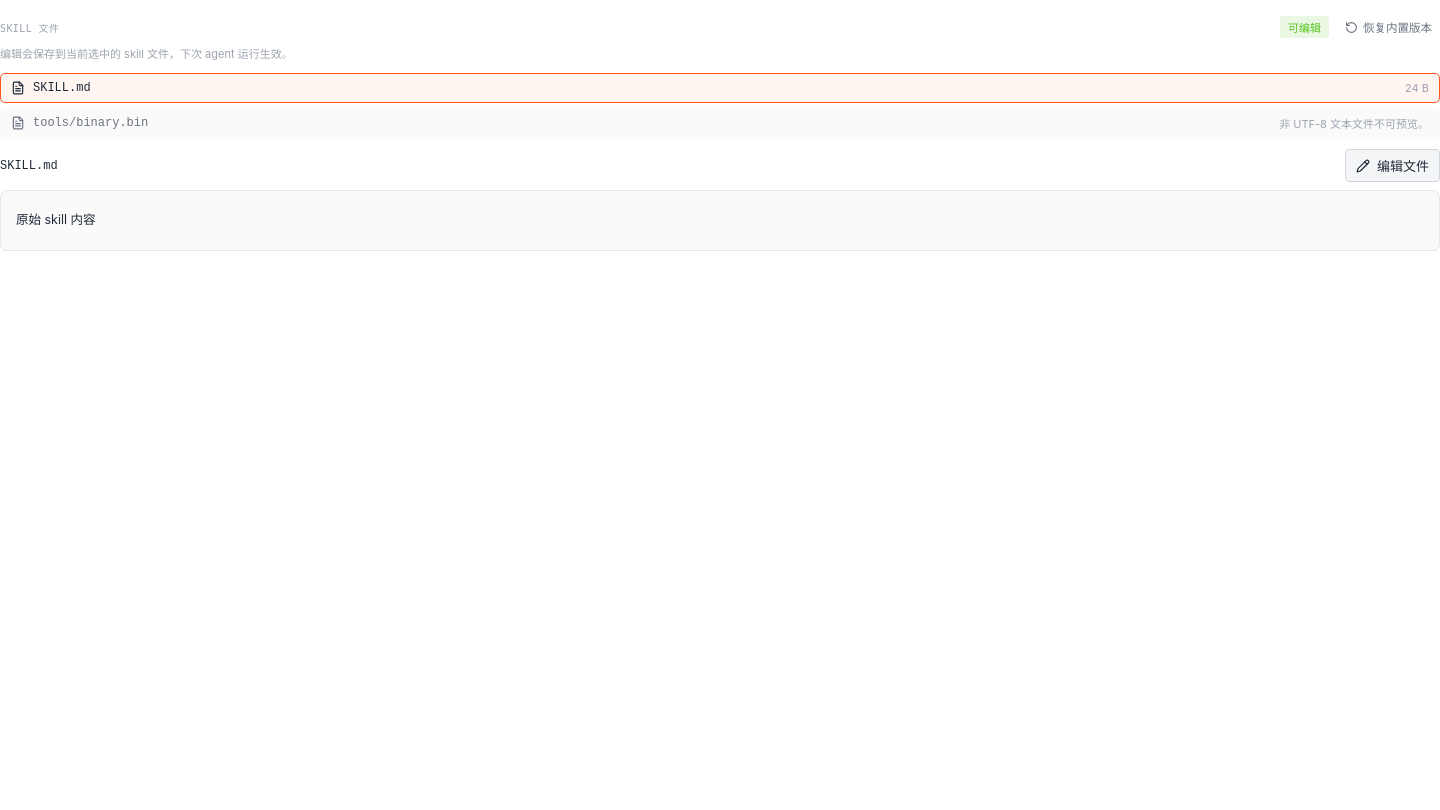
Test: SkillFilePreview › restores factory skills via dry-run preview and inline confirmation
Check: the text "原始 skill 内容" is shown, box left=16, top=212, right=96, bottom=227
Click the button "恢复内置版本": point(1388, 27) left=1337, top=14, right=1439, bottom=40
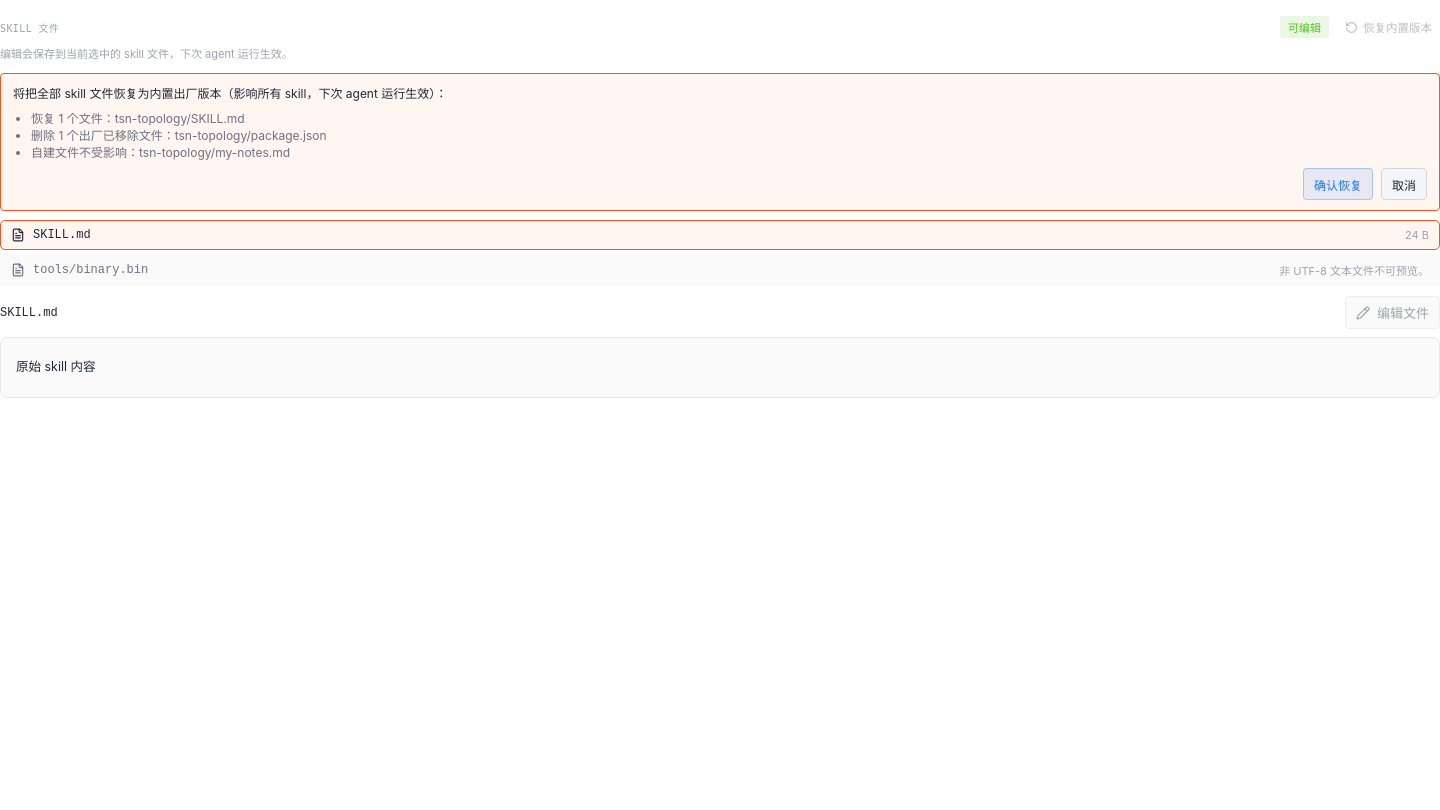
Check: the dialog named "恢复内置版本确认" shows "恢复 1 个文件：tsn-topology/SKILL.md", box left=31, top=111, right=245, bottom=126
Check: the dialog named "恢复内置版本确认" shows "删除 1 个出厂已移除文件：tsn-topology/package.json", box left=0, top=73, right=1439, bottom=211
Check: the dialog named "恢复内置版本确认" shows "自建文件不受影响：tsn-topology/my-notes.md", box left=0, top=73, right=1439, bottom=211
Click the button "确认恢复": point(1338, 184) left=1303, top=168, right=1373, bottom=200
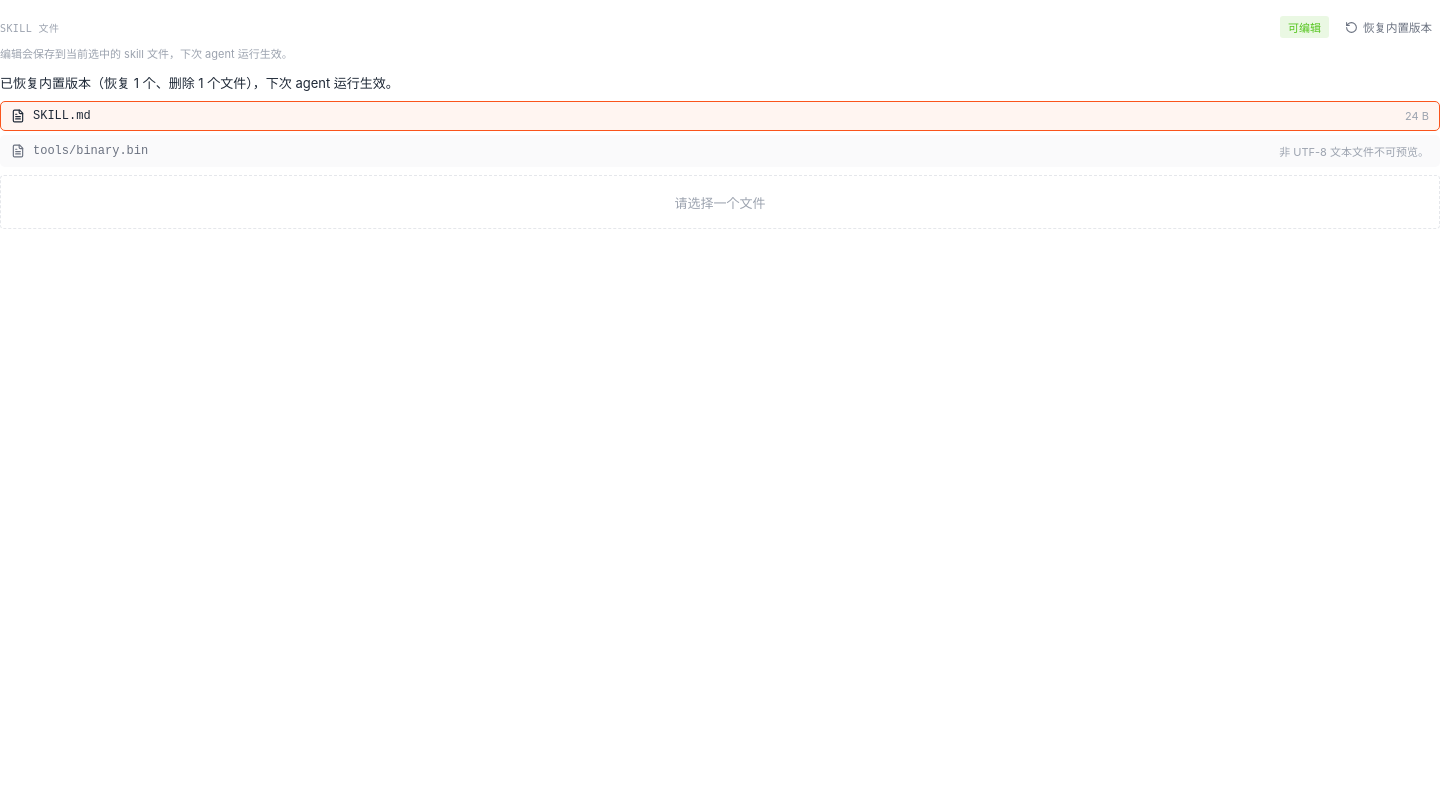
Check: the text "已恢复内置版本（恢复 1 个、删除 1 个文件），下次 agent 运行生效。" is shown, box left=0, top=75, right=399, bottom=91
